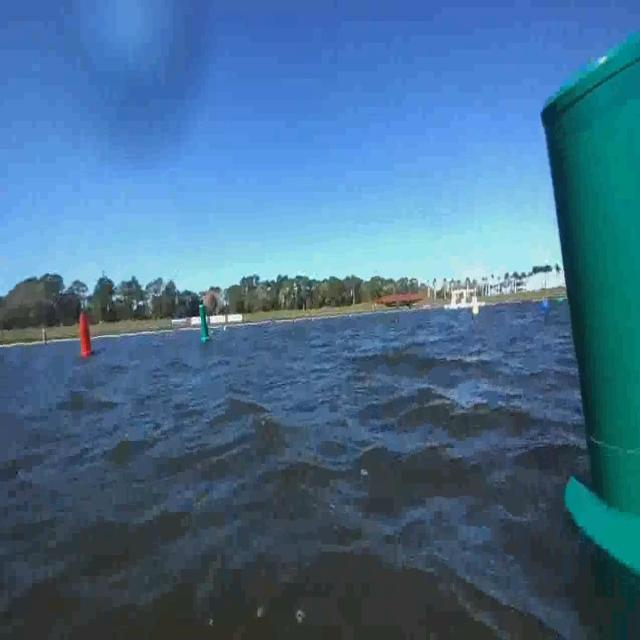green-column-buoy: (522, 27, 640, 636), (188, 296, 213, 350)
red-column-buoy: (70, 302, 99, 368)
